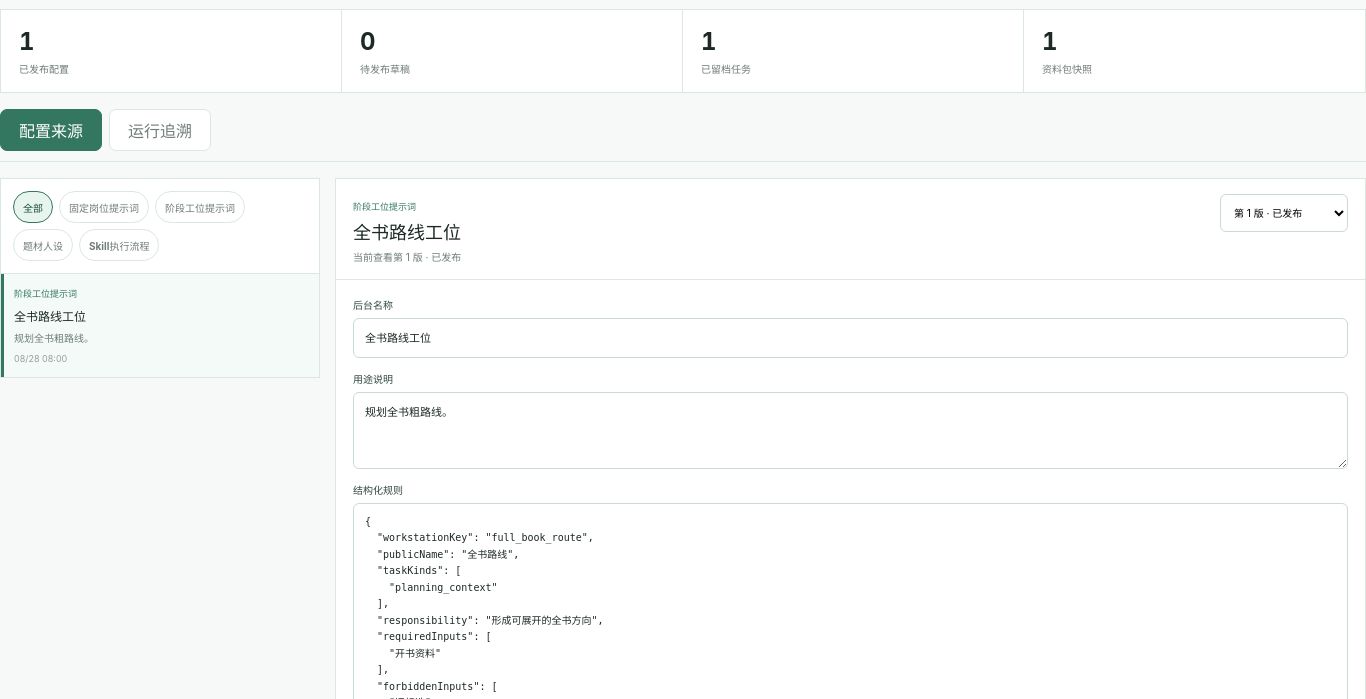
Scenario: 提示词与上下文中心 › 按真实资产键动作契约完成草稿保存、预览和发布，不打开弹窗
Expected: the heading "全书路线工位" is shown, [353,218,461,244]
Replace the text in the text box labelled "用途说明" with "规划全书粗路线并明确每卷责任。": {"x": 850, "y": 430} [353,392,1348,468]
(page scrolled)
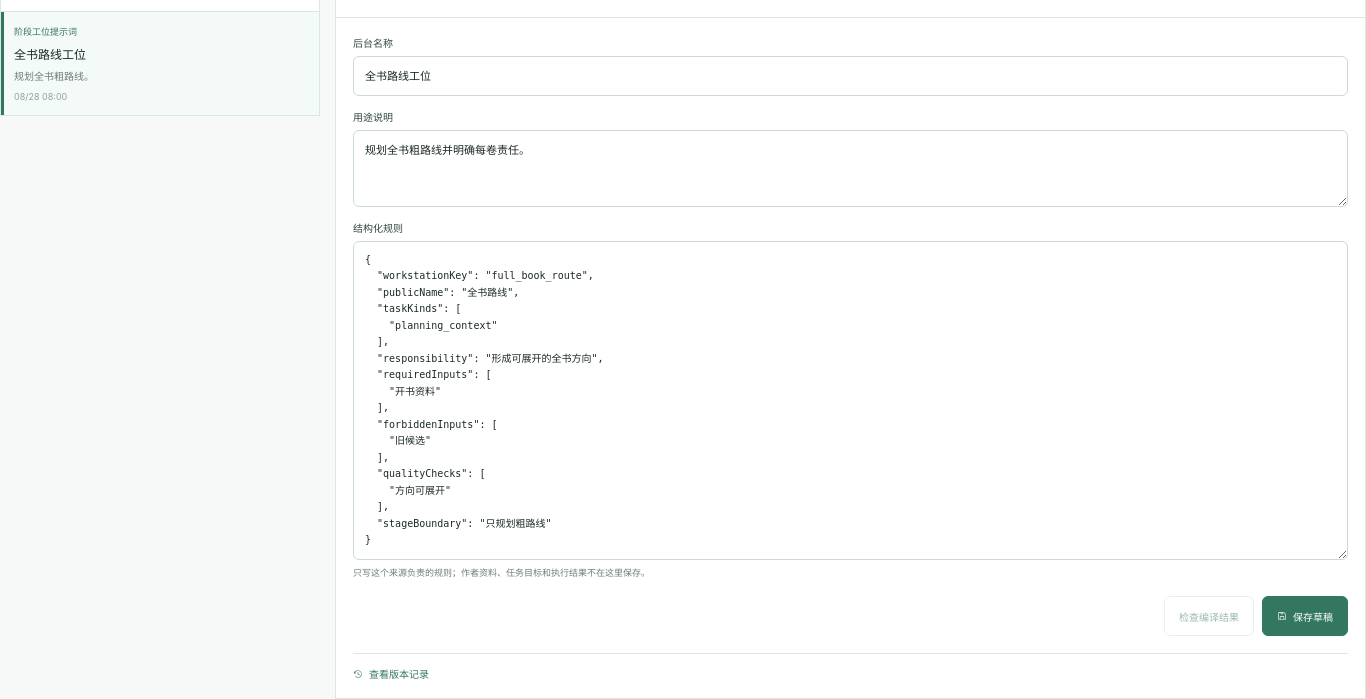
Click the button "保存草稿": {"x": 1305, "y": 616} [1262,596,1348,636]
(page scrolled)
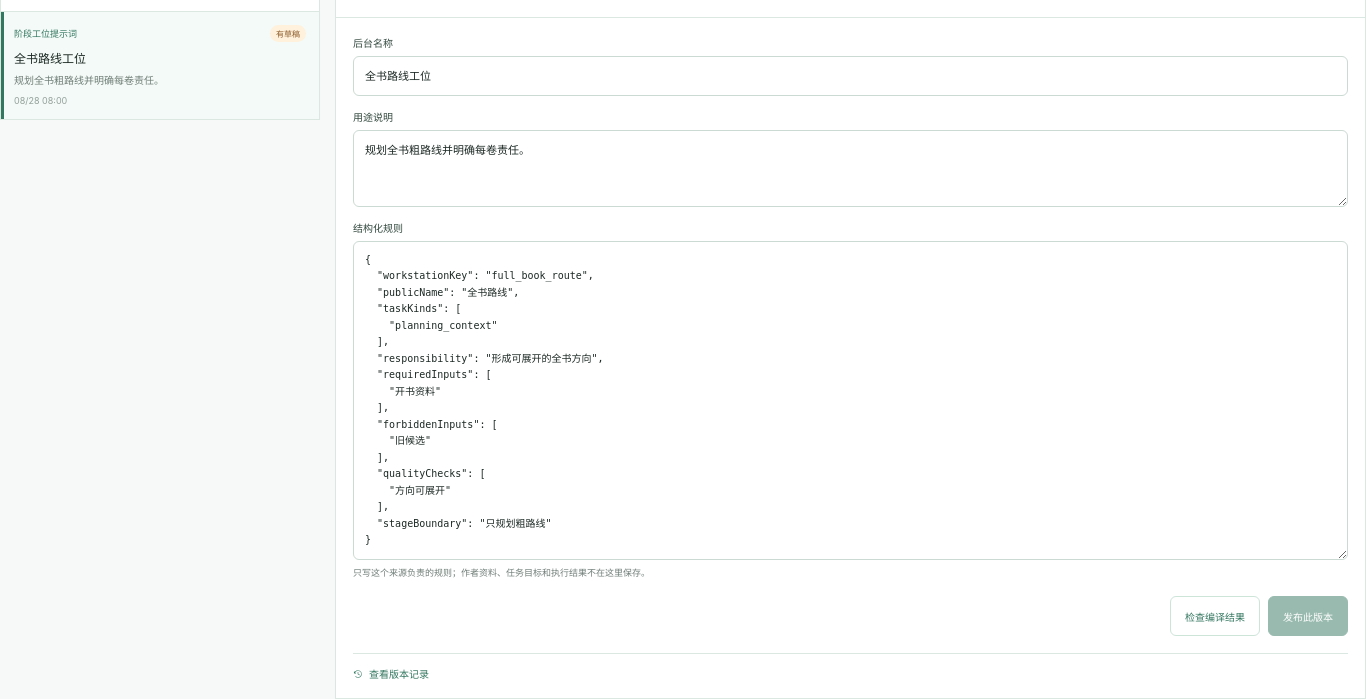
Click the button "检查编译结果": {"x": 1215, "y": 616} [1170,596,1260,636]
(page scrolled)
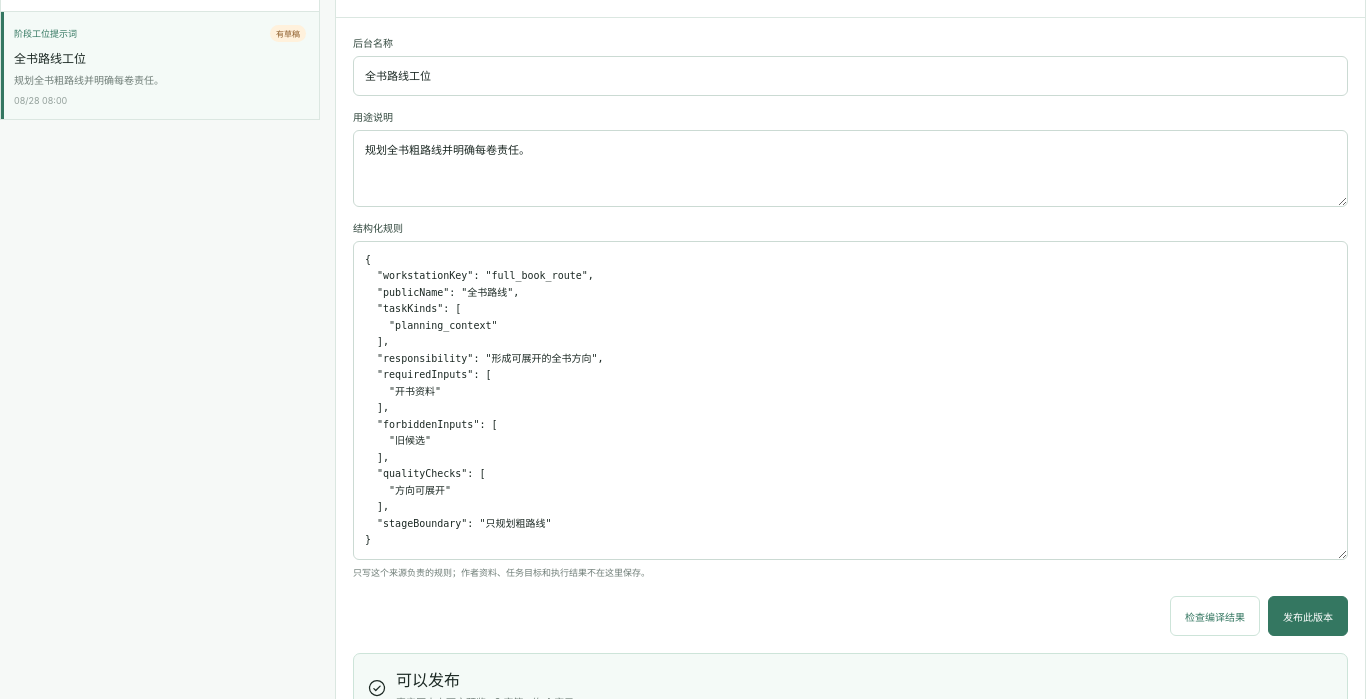
Expected: the text "可以发布" is shown, [396,670,460,690]
Click the button "发布此版本": {"x": 1308, "y": 616} [1268,596,1348,636]
(page scrolled)
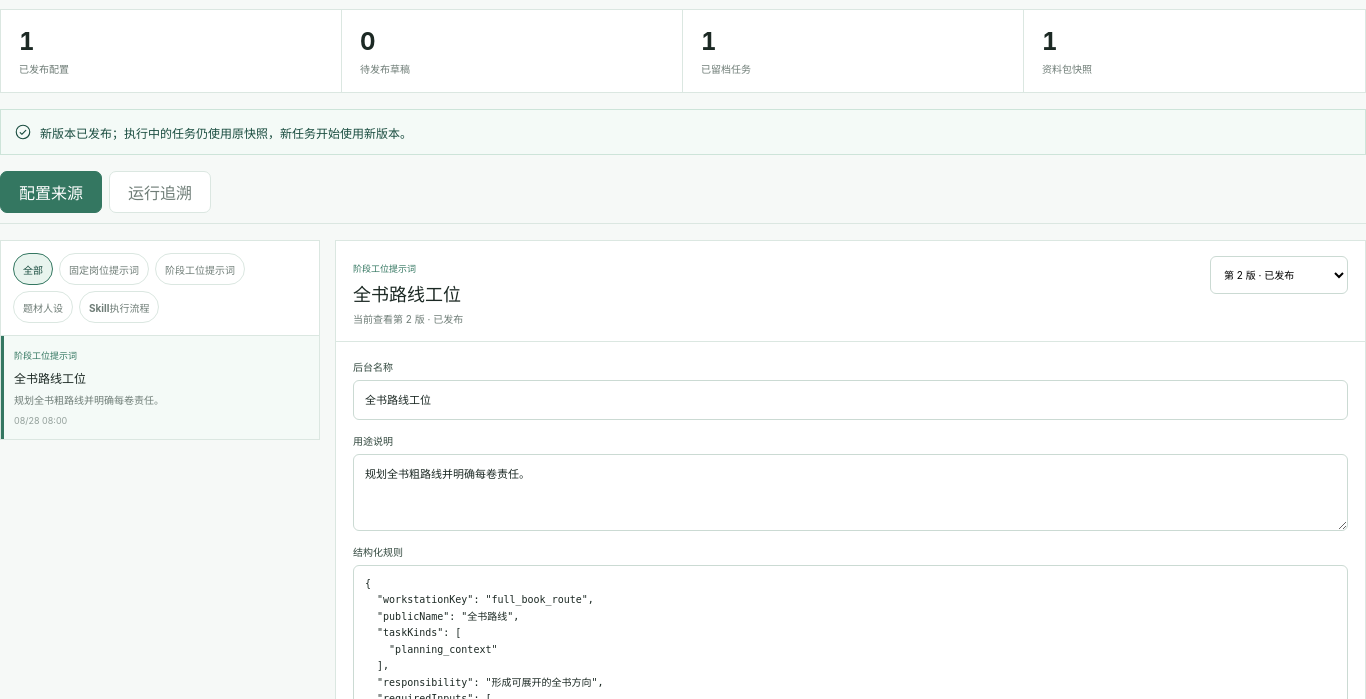
Expected: the text "新版本已发布；执行中的任务仍使用原快照，新任务开始使用新版本。" is shown, [40,124,412,140]
